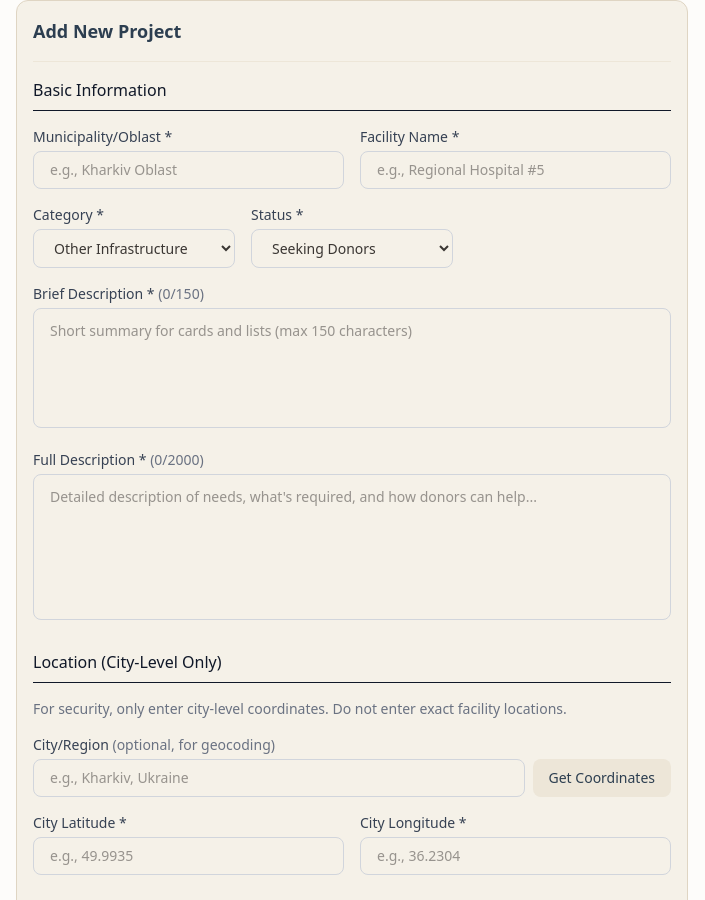
Test: ProjectForm › Geocoding › shows error when geocoding returns no results
Type "Unknown Place" into the field with placeholder "e.g., Kharkiv, Ukraine" at (279,778), box [33,759,524,797]
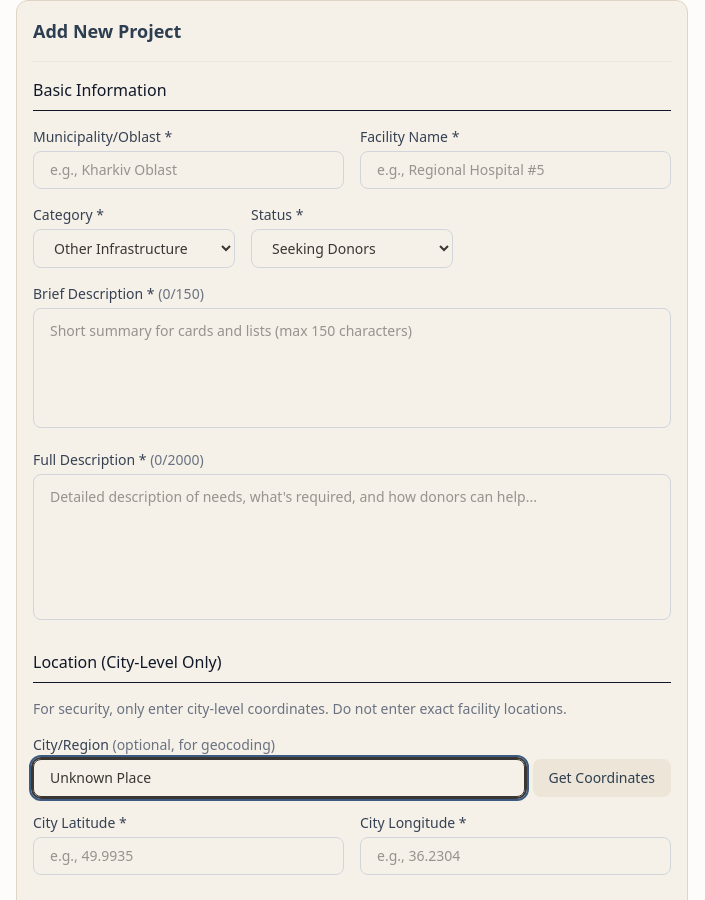
Click the button "Get Coordinates" at (602,778), box [532,759,671,797]
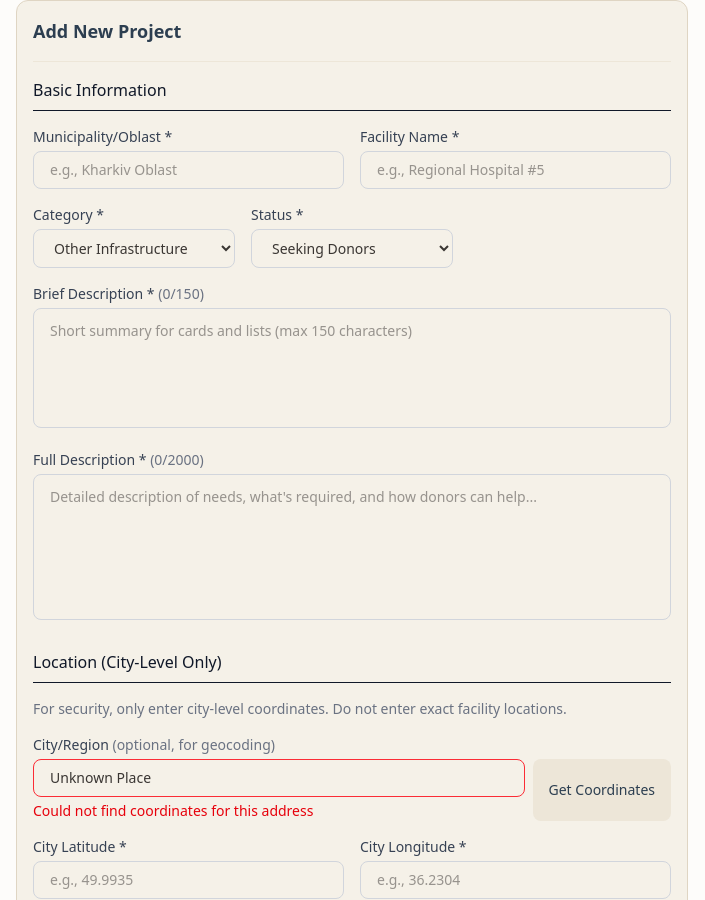
Now the text "Could not find coordinates for this address" is shown, box [33,801,313,820]
